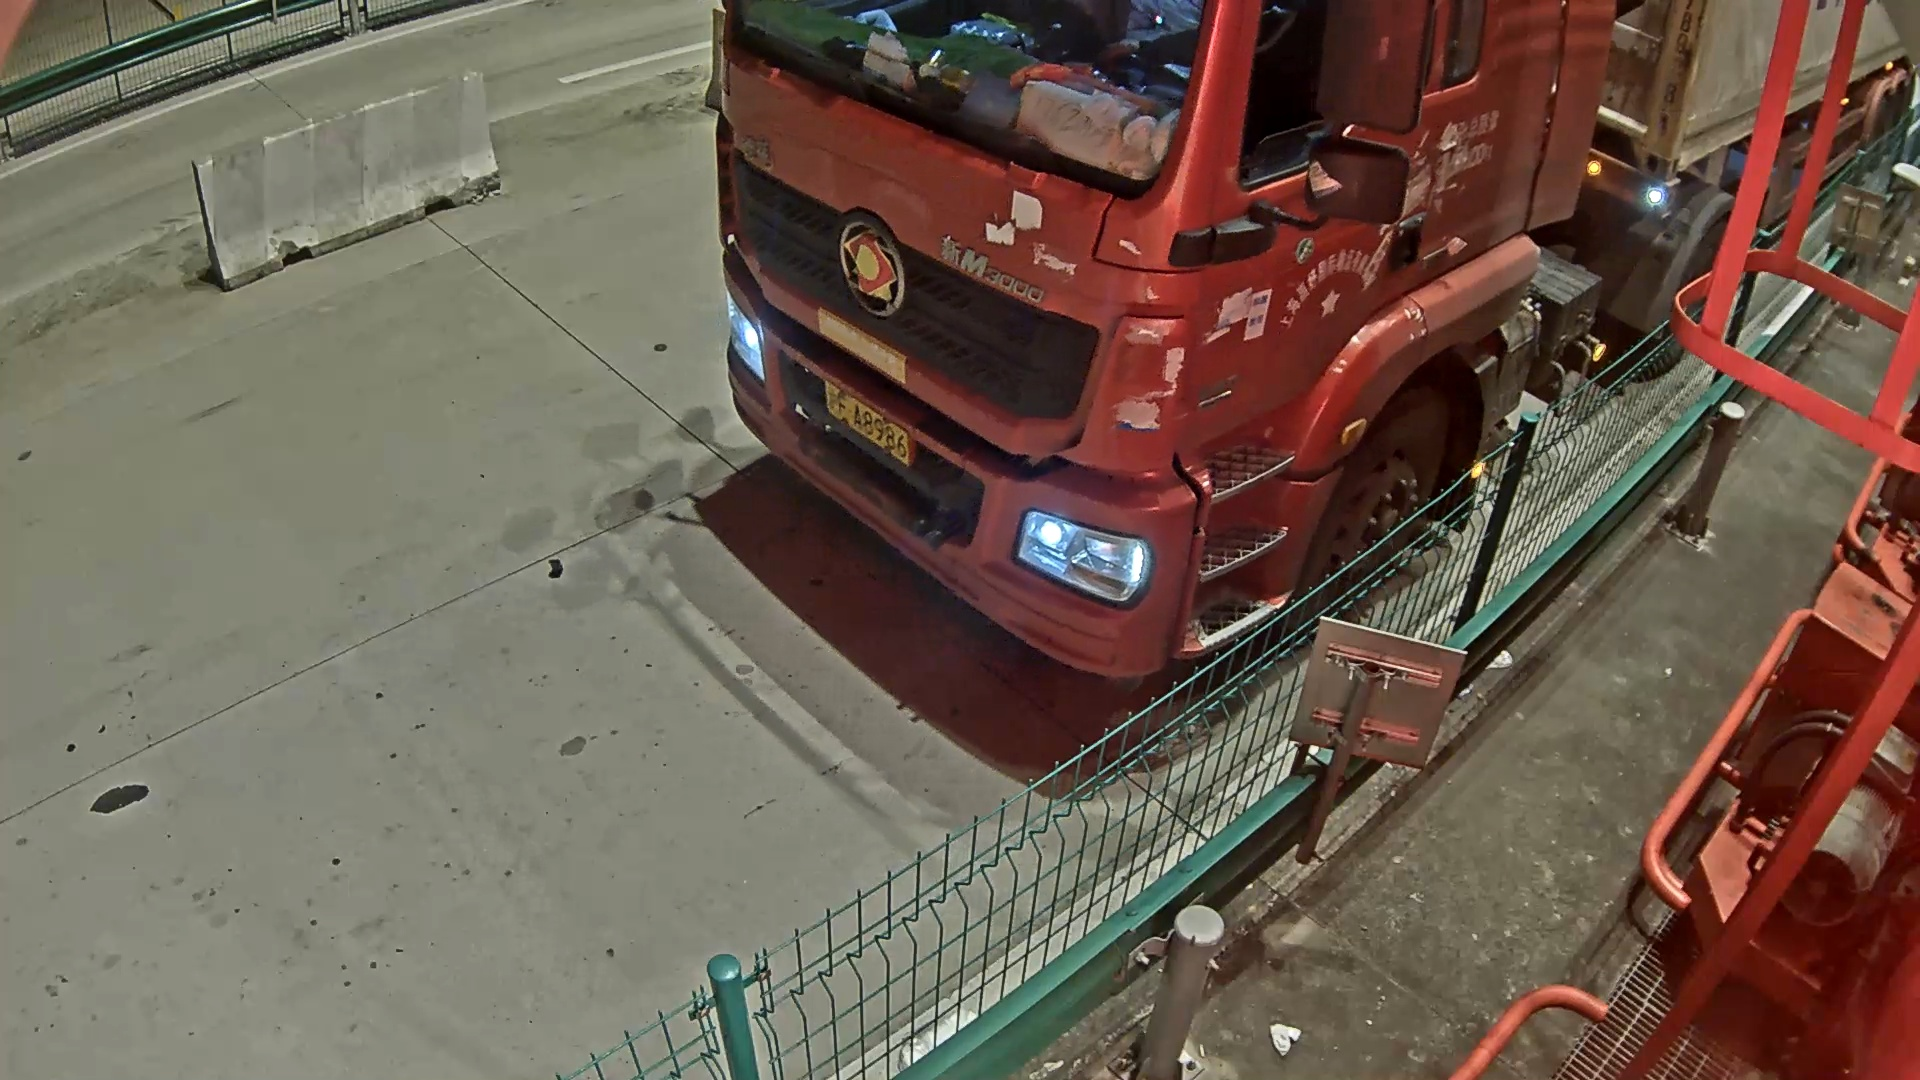head: (697, 14, 1342, 746)
plate: (810, 385, 954, 483)
